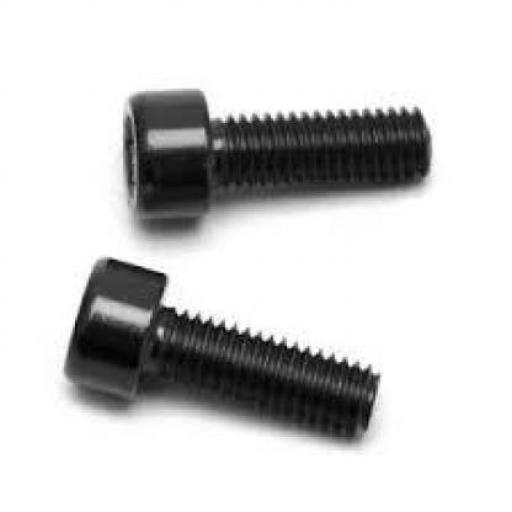Bolt: (64, 257, 382, 441), (122, 88, 434, 221)
